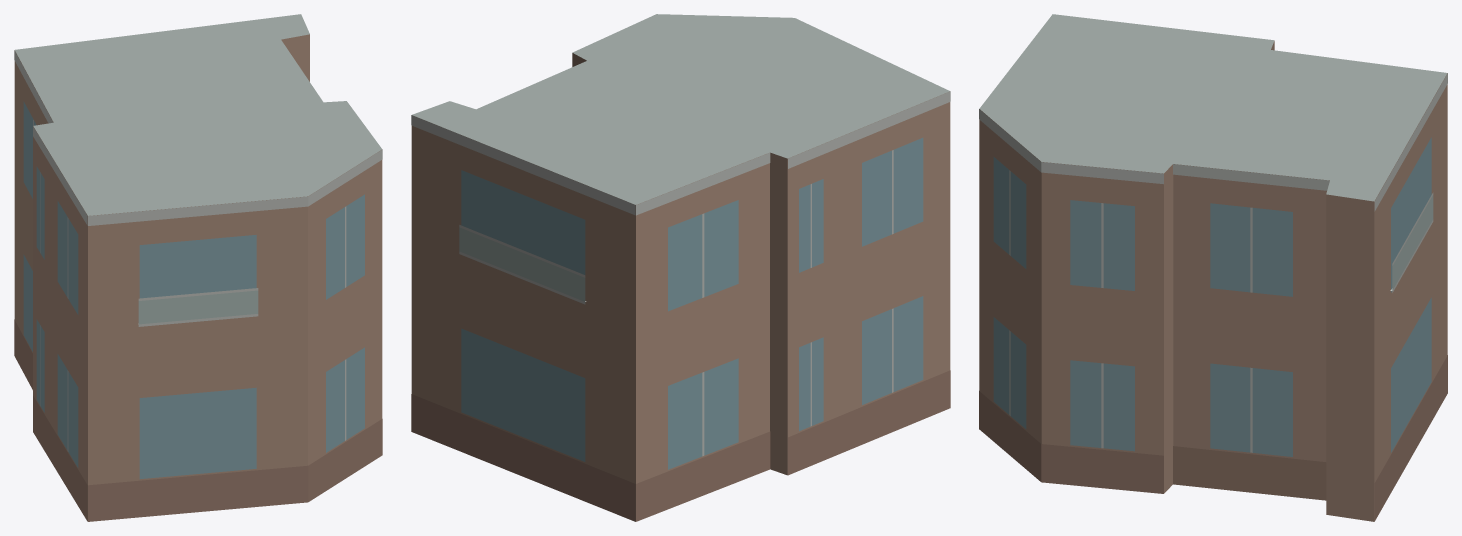
File: survey-upis-32499272.glb
The picture shows the model from 3 angles, left to right: view 1: azimuth 30°, elevation 25°; view 2: azimuth 150°, elevation 25°; view 3: azimuth 270°, elevation 25°; orthographic projection. The views are drawn at different scales.
Parts seen in each view (by area): view 1: survey-upis-32499272.tmp; view 2: survey-upis-32499272.tmp; view 3: survey-upis-32499272.tmp.
Part boxes in pixels (box(x1,y1,x2,y2)): survey-upis-32499272.tmp: box(14, 14, 382, 521); survey-upis-32499272.tmp: box(411, 14, 950, 521); survey-upis-32499272.tmp: box(979, 14, 1447, 521).
Size of the model in its own units: 9.17 by 7.3 by 9.68.
